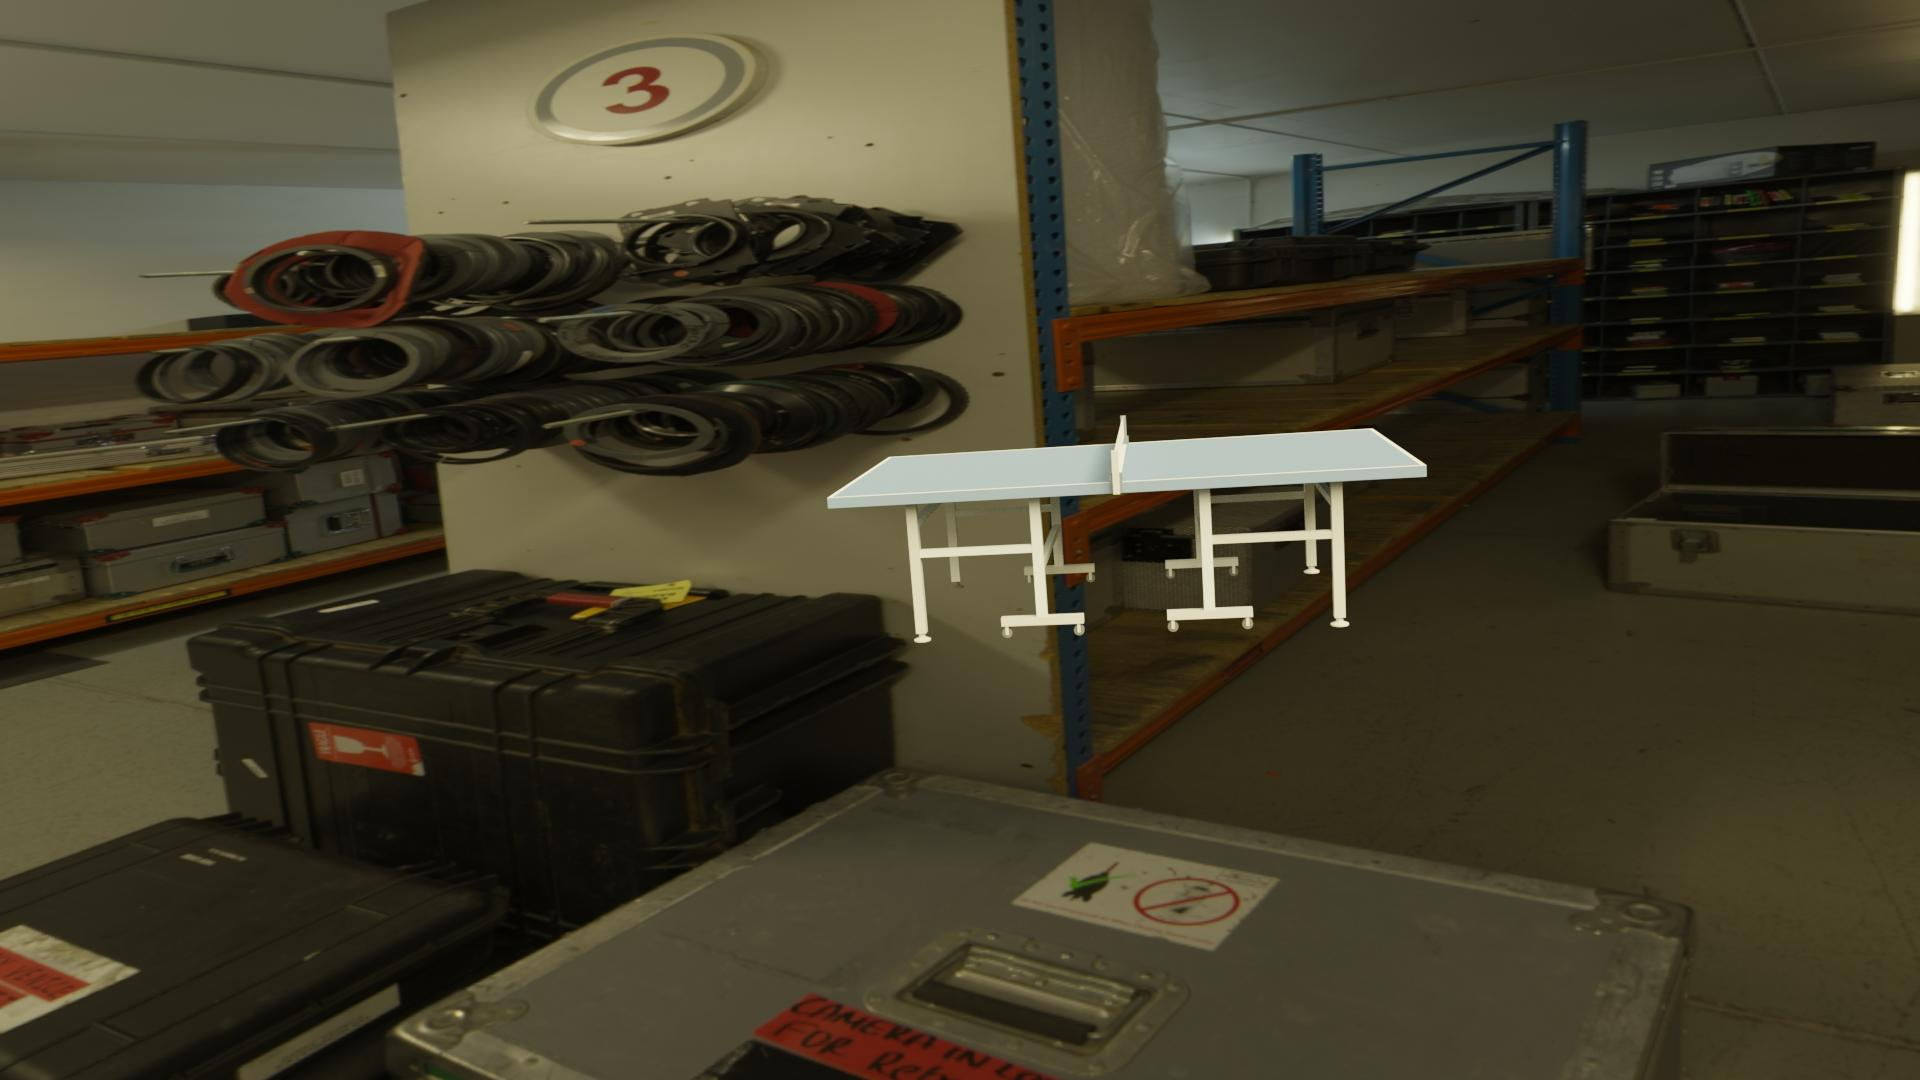table: (832, 430, 1422, 497)
